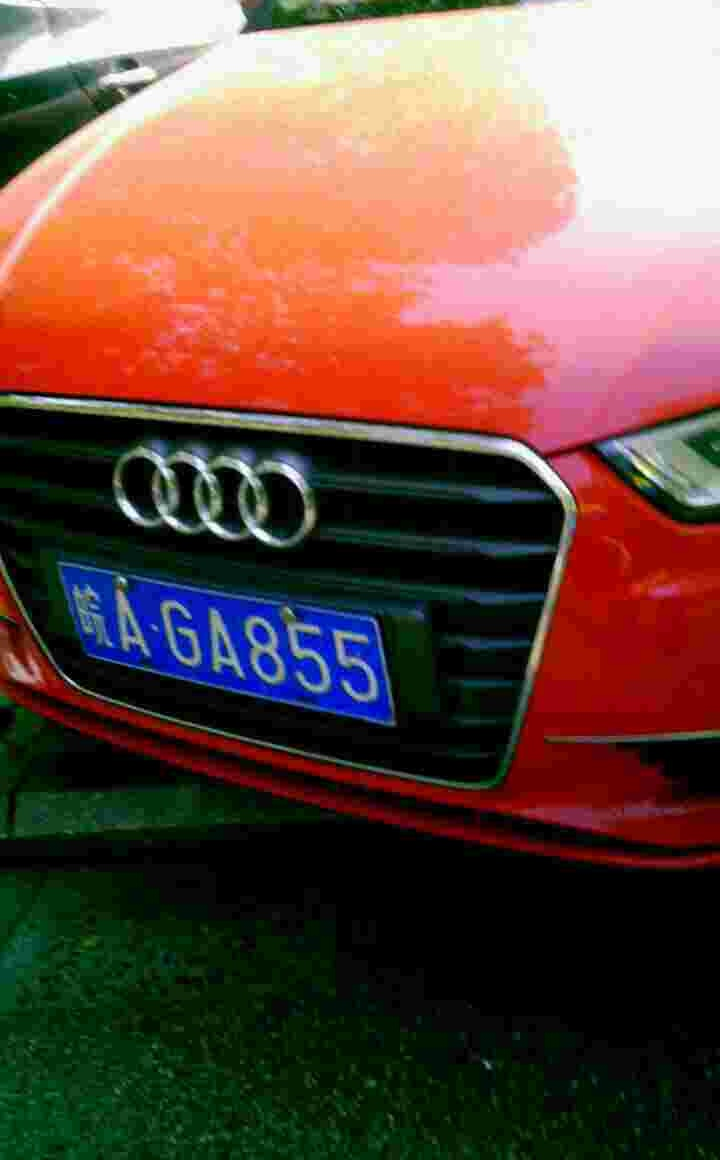license_plate: (56, 563, 404, 717)
